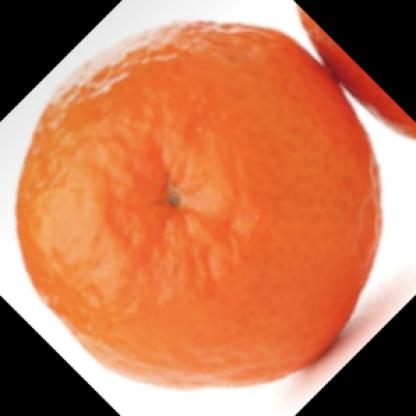fresh: (20, 20, 382, 389)
